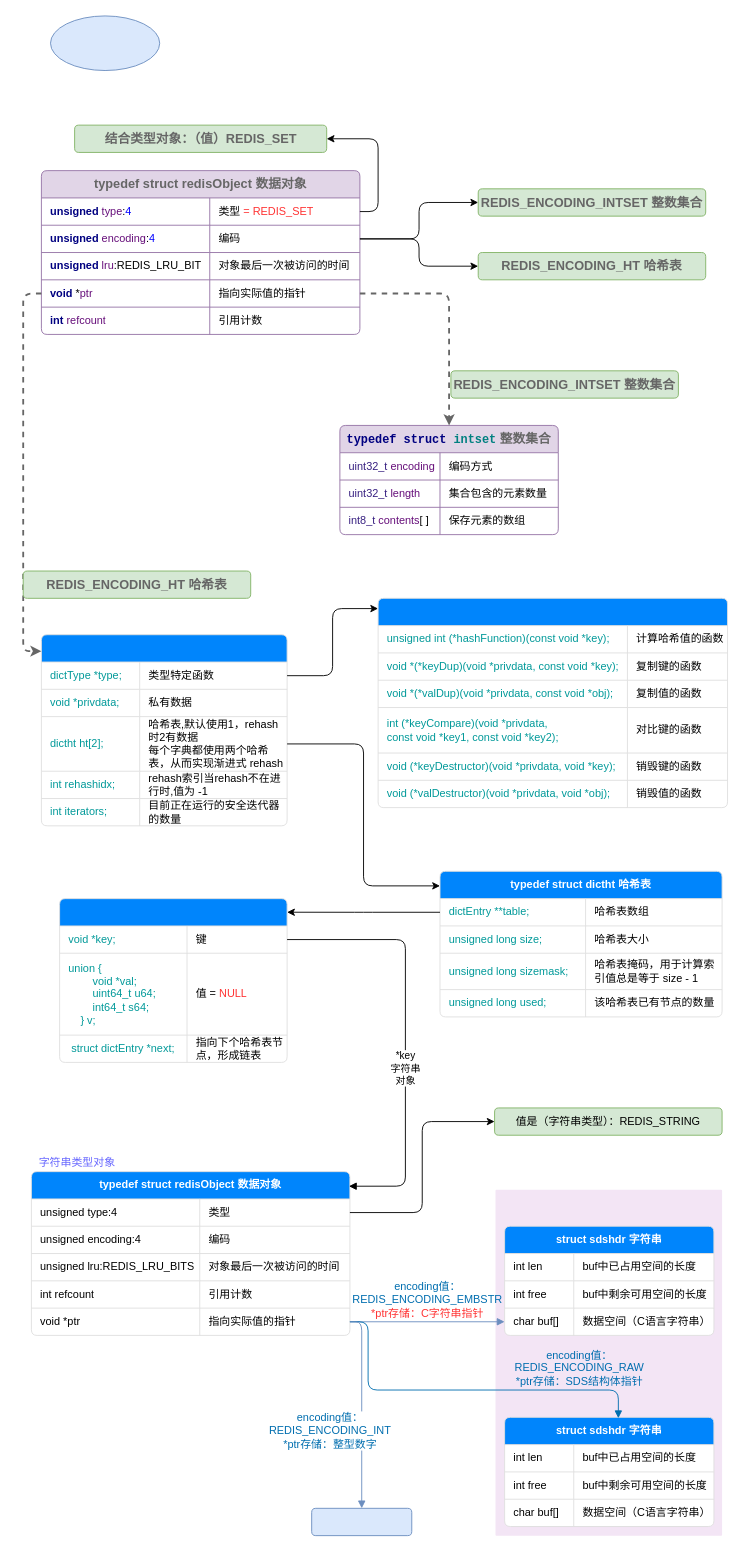
This 743x1552 diagram has some shape labels left out. The box of each missing label's shape, as (x1, y1, x2, y2) in pixels:
Redic Object 集合数据对象: (50, 15, 160, 71)
sds字符串对象: (495, 1189, 722, 1535)
typedef struct dict 字典: (40, 634, 287, 826)
typedef struct dictEntry 哈希表节点: (59, 898, 287, 1062)
typedef struct dictType 字典类型特定函数: (377, 597, 728, 808)
值是整型数字: (311, 1507, 412, 1536)
